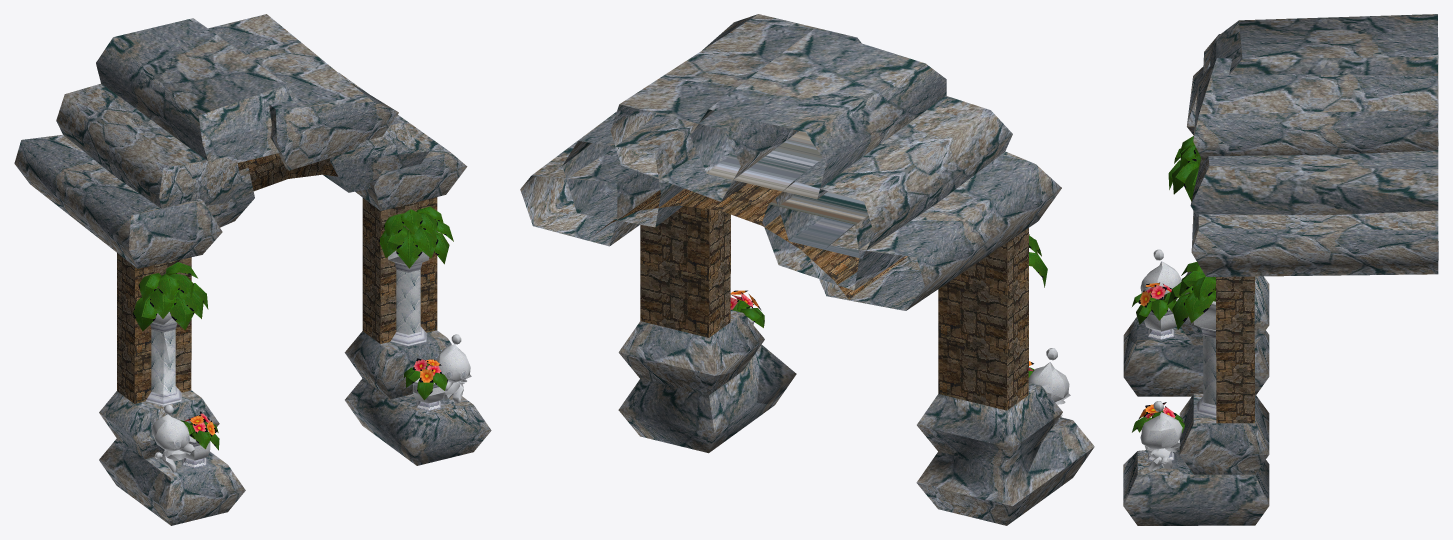
File: chao_garden_entrance.glb
3 renders of one model, left to right at view 1: azimuth 30°, elevation 25°; view 2: azimuth 150°, elevation 25°; view 3: azimuth 270°, elevation 25°, orthographic. The views are drawn at different scales.
Visible parts, largest first — view 1: Object_7, Object_8, Object_5, Object_3, Object_4, Object_2; view 2: Object_7, Object_8, Object_3, Object_5; view 3: Object_7, Object_8, Object_5, Object_3, Object_4, Object_2, Object_10.
Part boxes in pixels (<box>): Object_7: <box>14,14,491,525</box>; Object_8: <box>117,153,437,403</box>; Object_5: <box>132,206,453,450</box>; Object_3: <box>151,250,471,472</box>; Object_4: <box>151,269,420,394</box>; Object_2: <box>145,262,440,467</box>; Object_7: <box>520,14,1094,525</box>; Object_8: <box>595,183,1028,410</box>; Object_3: <box>747,317,1070,423</box>; Object_5: <box>732,234,1047,377</box>; Object_7: <box>1123,14,1438,525</box>; Object_8: <box>1216,276,1254,423</box>; Object_5: <box>1132,136,1215,432</box>; Object_3: <box>1141,249,1215,470</box>; Object_4: <box>1203,335,1216,405</box>; Object_2: <box>1148,310,1216,460</box>; Object_10: <box>1143,284,1176,420</box>.
Bounding box in the file's own units: 4.48 × 4.64 × 3.35.
9 materials, 9 textured.
